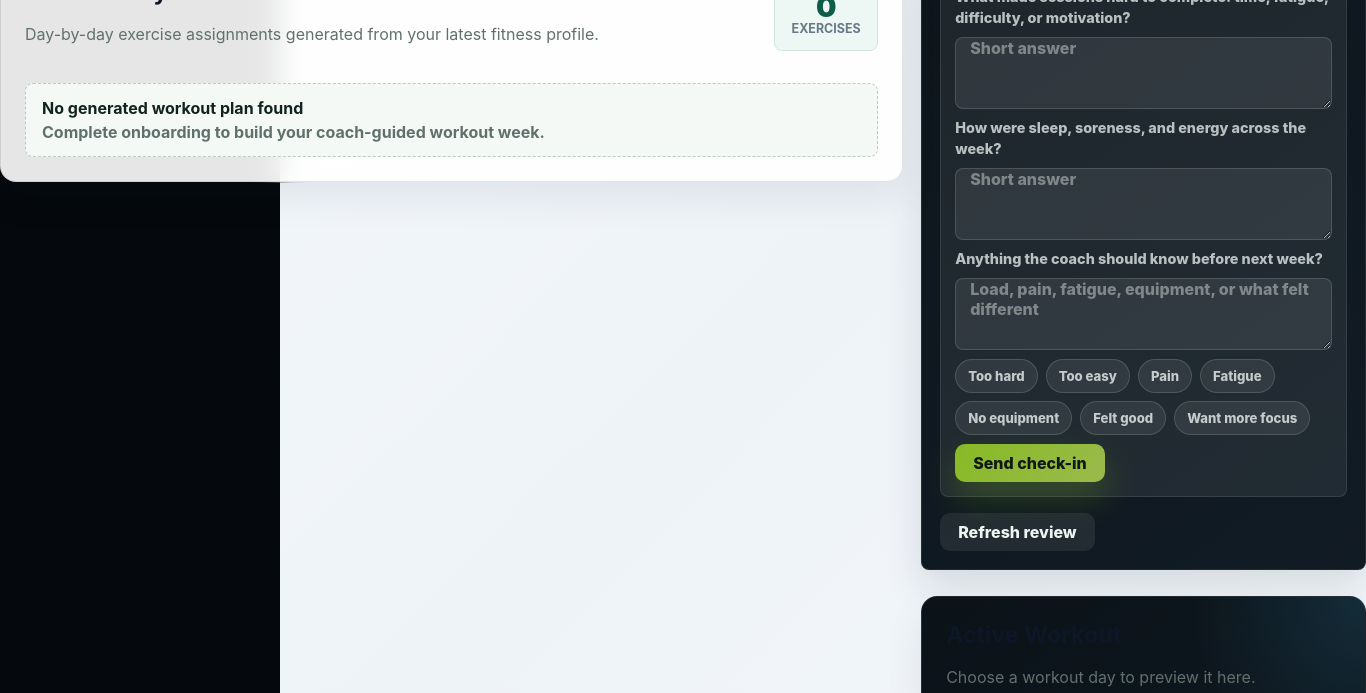
Test: weekly check-in shows guidance when backend ignores irrelevant text
The width and height of the screenshot is (1366, 693).
(page scrolled)
Expected: the button "Send check-in" is disabled, [955, 444, 1105, 482]
In the text box named "General coach note": (1144, 314) [955, 278, 1332, 350], type "you are the king"
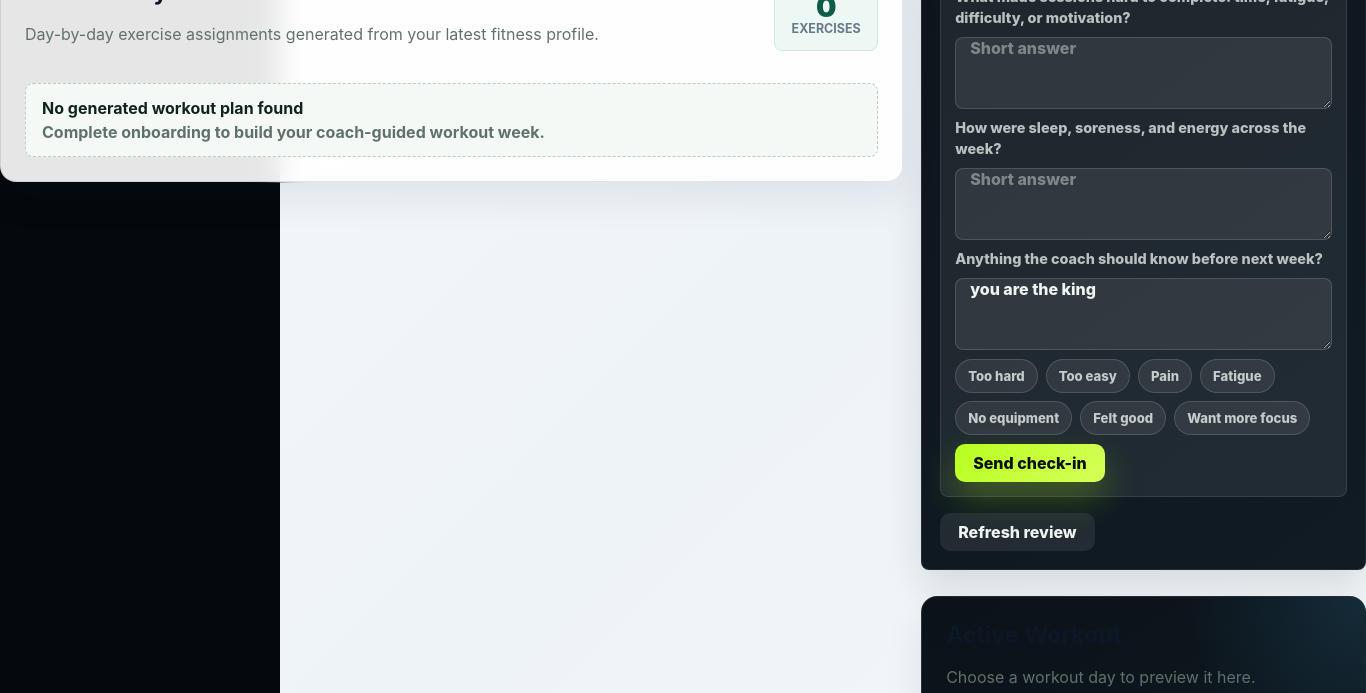
Expected: the button "Send check-in" is enabled
Click the button "Send check-in": (1030, 463) [955, 444, 1105, 482]
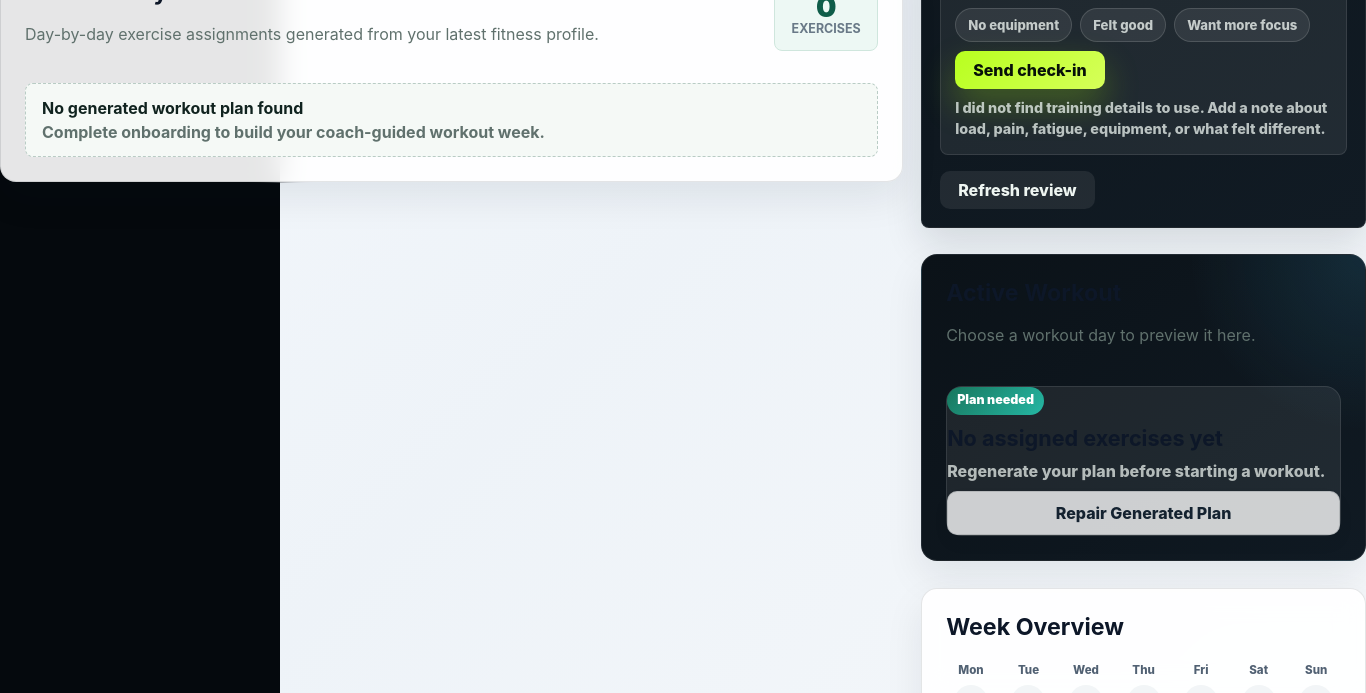
Expected: the text "I did not find training details to use" is shown, [955, 99, 1327, 137]
